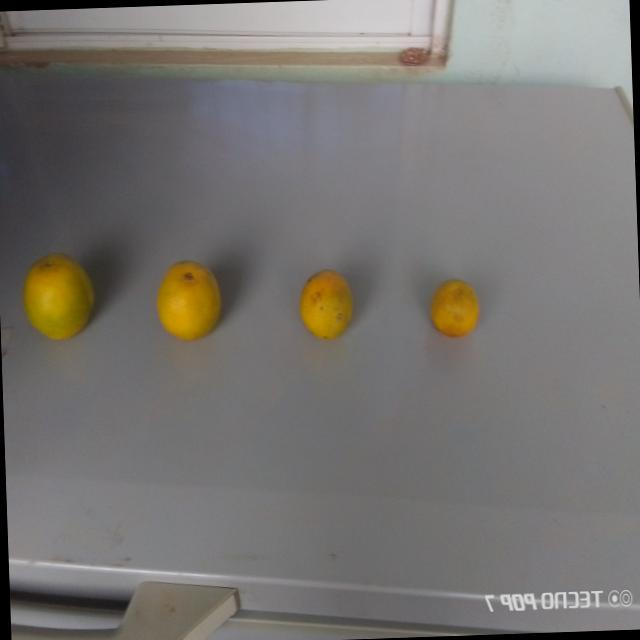Ripe orange: (20, 250, 101, 348), (150, 255, 228, 347), (293, 265, 363, 350), (425, 273, 485, 348)
